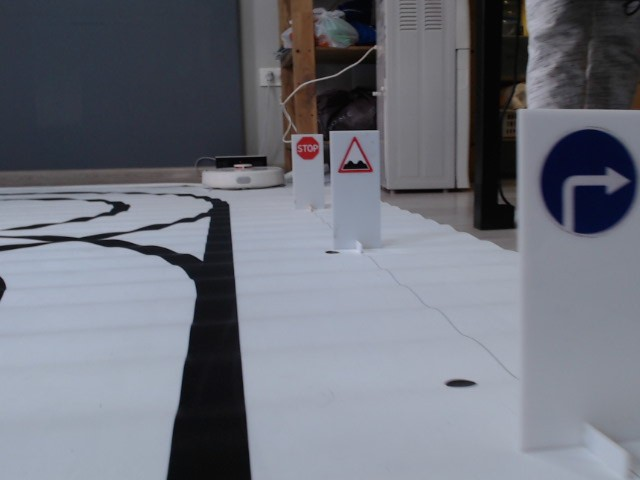Nerov: (338, 134, 372, 176)
Right: (537, 126, 640, 234)
Stop: (296, 135, 318, 161)
